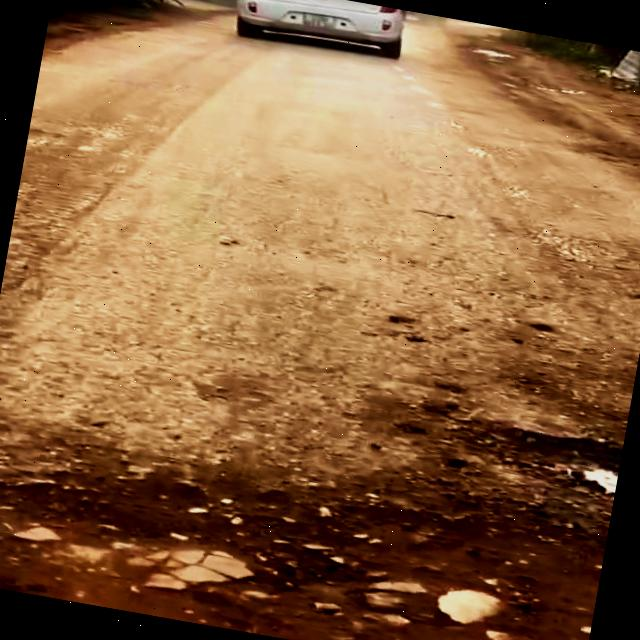pothole: (0, 411, 609, 640), (444, 408, 624, 520)
